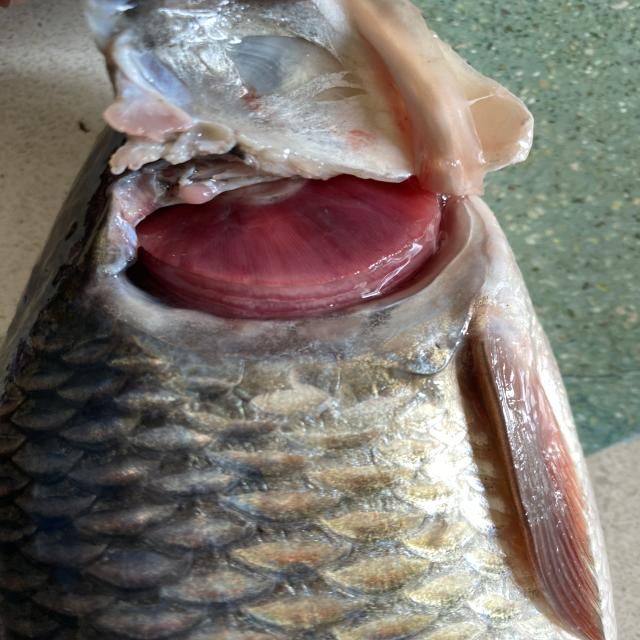Fresh: (105, 158, 516, 315)
